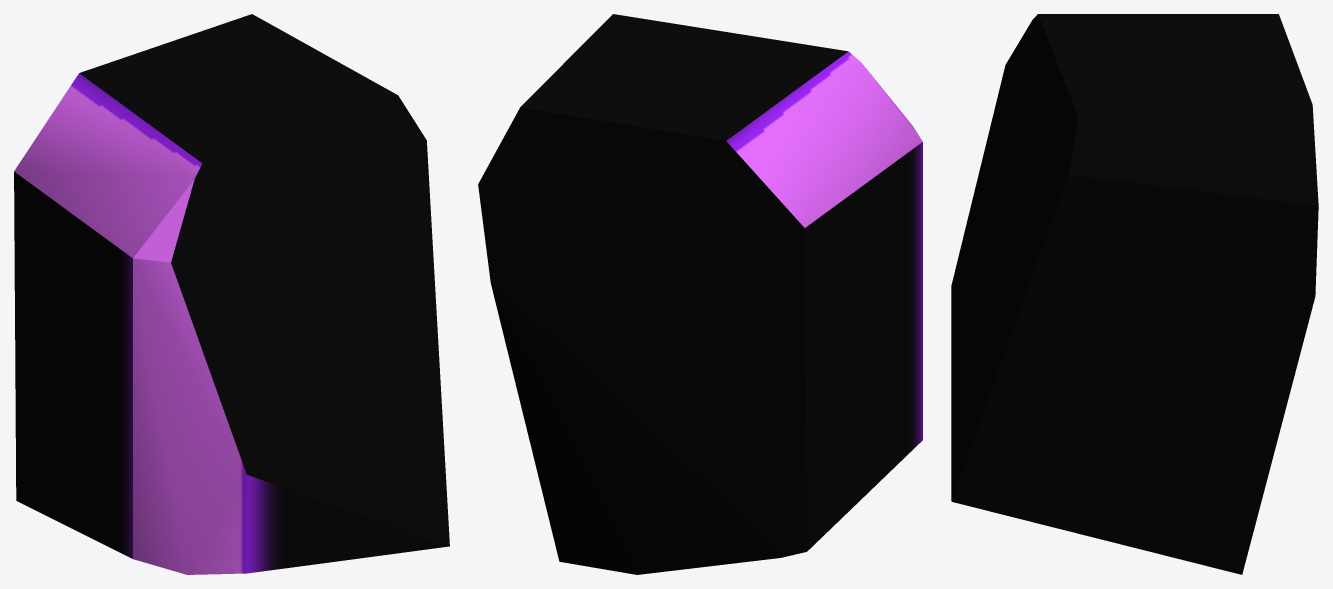
File: blockParticle_18.obj
3 renders of one model, left to right at view 1: azimuth 30°, elevation 25°; view 2: azimuth 150°, elevation 25°; view 3: azimuth 270°, elevation 25°, orthographic. The views are drawn at different scales.
Parts seen in each view (by area): view 1: 立方体_cell.020; view 2: 立方体_cell.020; view 3: 立方体_cell.020.
Boxes of the visible parts, x1=… form: 立方体_cell.020: x1=14, y1=14, x2=449, y2=574; 立方体_cell.020: x1=478, y1=14, x2=922, y2=574; 立方体_cell.020: x1=951, y1=14, x2=1318, y2=574.
Size of the model in its own units: 0.9174 by 1.36 by 0.9575.
2 materials, 2 textured.
